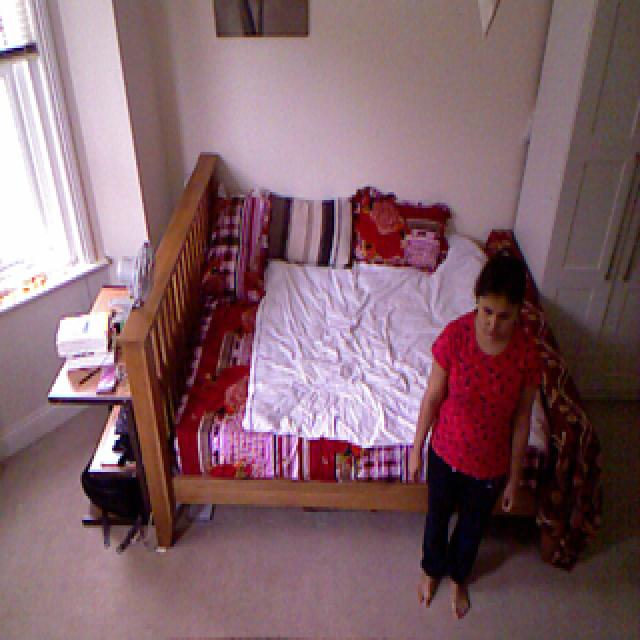standing: (412, 245, 536, 628)
